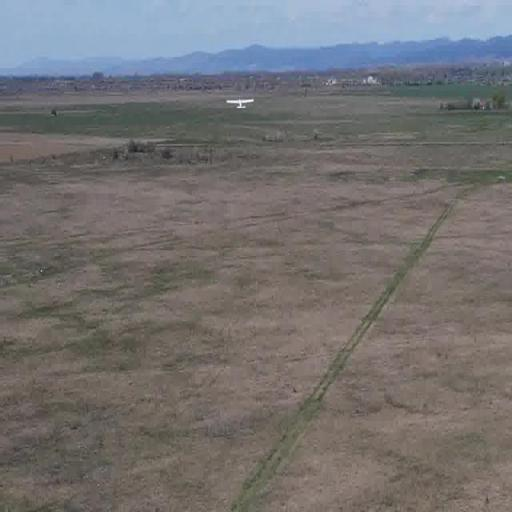uav: (226, 94, 258, 116)
